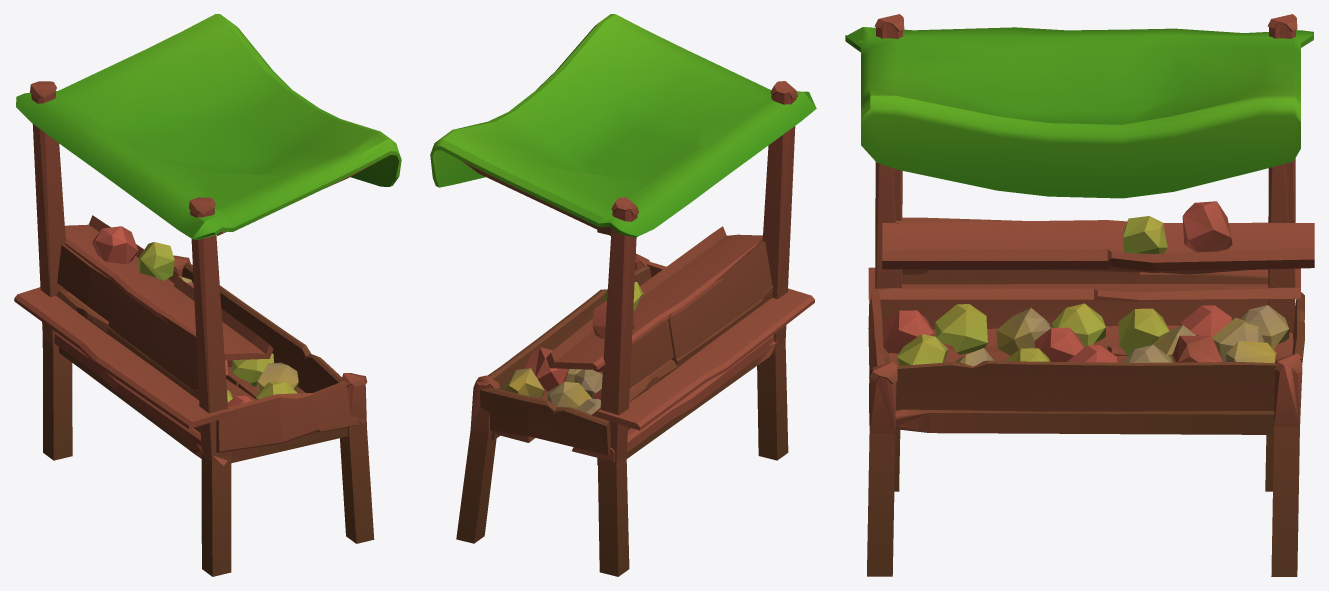
The model's file is MarketStand_Green.fbx.
3 renders of one model, left to right at view 1: azimuth 30°, elevation 25°; view 2: azimuth 150°, elevation 25°; view 3: azimuth 270°, elevation 25°, orthographic. The views are drawn at different scales.
Visible parts, largest first — view 1: MarketStand_Green; view 2: MarketStand_Green; view 3: MarketStand_Green.
Part boxes in pixels (<box>): MarketStand_Green: <box>14,14,401,576</box>; MarketStand_Green: <box>430,14,816,576</box>; MarketStand_Green: <box>845,14,1314,576</box>.
Bounding box in the file's own units: 1.89 × 3.35 × 2.91.
